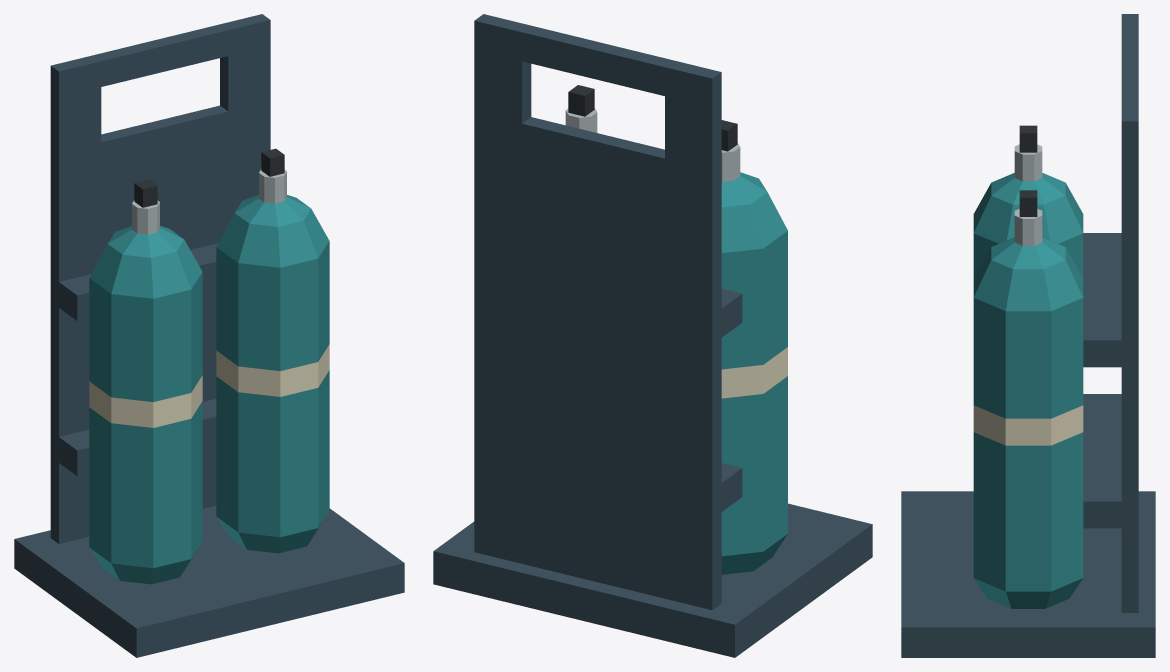
3 views of the same model, side by side, from view 1: azimuth 30°, elevation 25°; view 2: azimuth 150°, elevation 25°; view 3: azimuth 270°, elevation 25° (orthographic). The views are drawn at different scales.
Parts seen in each view (by area): view 1: PiercedWholeBackplate, LeftWholeCylinderExterior, RightWholeCylinderExterior, GroundedWholeFootplate, UpperWholeRearSpacer, LowerWholeRearSpacer, LeftFixedTopKnob, RightFixedTopKnob; view 2: PiercedWholeBackplate, GroundedWholeFootplate, LeftWholeCylinderExterior, LowerWholeRearSpacer, UpperWholeRearSpacer, RightFixedTopKnob; view 3: RightWholeCylinderExterior, GroundedWholeFootplate, PiercedWholeBackplate, LeftWholeCylinderExterior, LowerWholeRearSpacer, UpperWholeRearSpacer, LeftFixedTopKnob, RightFixedTopKnob.
Part boxes in pixels (box(x1,y1,x2,y2)): PiercedWholeBackplate: box(50, 14, 270, 543); LeftWholeCylinderExterior: box(89, 200, 202, 584); RightWholeCylinderExterior: box(216, 169, 329, 553); GroundedWholeFootplate: box(14, 506, 404, 657); UpperWholeRearSpacer: box(59, 243, 218, 321); LowerWholeRearSpacer: box(59, 398, 216, 476); LeftFixedTopKnob: box(134, 179, 157, 207); RightFixedTopKnob: box(261, 148, 284, 176); PiercedWholeBackplate: box(474, 14, 721, 610); GroundedWholeFootplate: box(433, 503, 872, 657); LeftWholeCylinderExterior: box(721, 143, 787, 574); LowerWholeRearSpacer: box(721, 463, 742, 511); UpperWholeRearSpacer: box(721, 288, 742, 337); RightFixedTopKnob: box(568, 85, 594, 116); RightWholeCylinderExterior: box(973, 209, 1083, 608); GroundedWholeFootplate: box(901, 491, 1155, 657); PiercedWholeBackplate: box(1121, 14, 1138, 612); LeftWholeCylinderExterior: box(973, 144, 1083, 277); LowerWholeRearSpacer: box(1083, 394, 1121, 528); UpperWholeRearSpacer: box(1083, 233, 1121, 367); LeftFixedTopKnob: box(1019, 125, 1037, 152); RightFixedTopKnob: box(1019, 190, 1037, 216).
Bounding box in the file's own units: 0.76 × 1.36 × 0.6.
